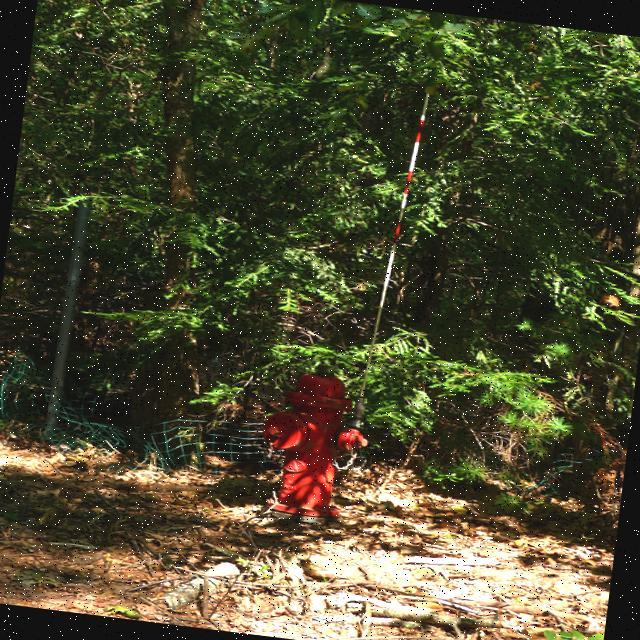fire_hydrant: (252, 356, 370, 532)
